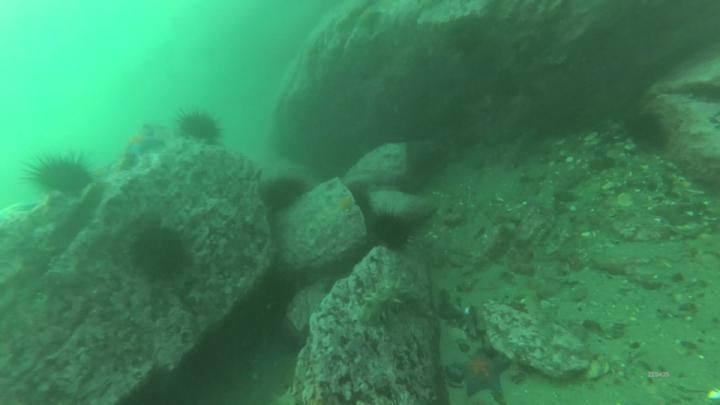echinus: (132, 231, 184, 278), (35, 161, 89, 193), (623, 114, 668, 150), (261, 175, 307, 206), (369, 213, 406, 246), (176, 115, 222, 141)
holothurian: (358, 280, 419, 328)
starfish: (458, 351, 509, 393), (123, 126, 160, 154)
